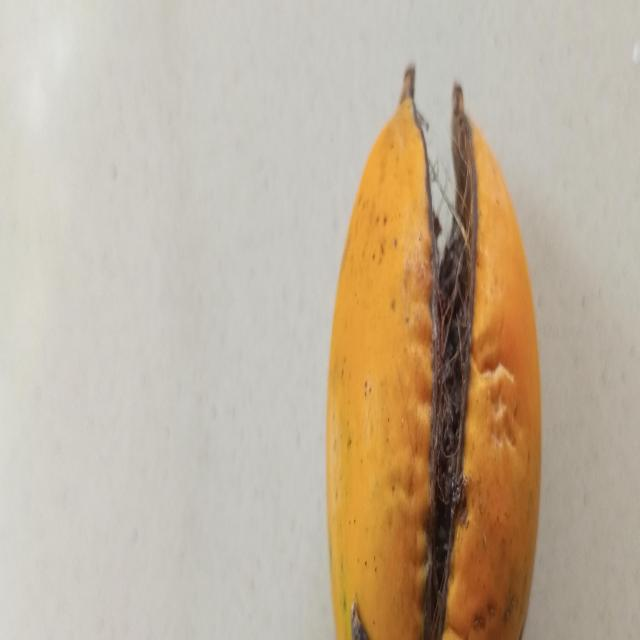damaged: (327, 66, 541, 640)
